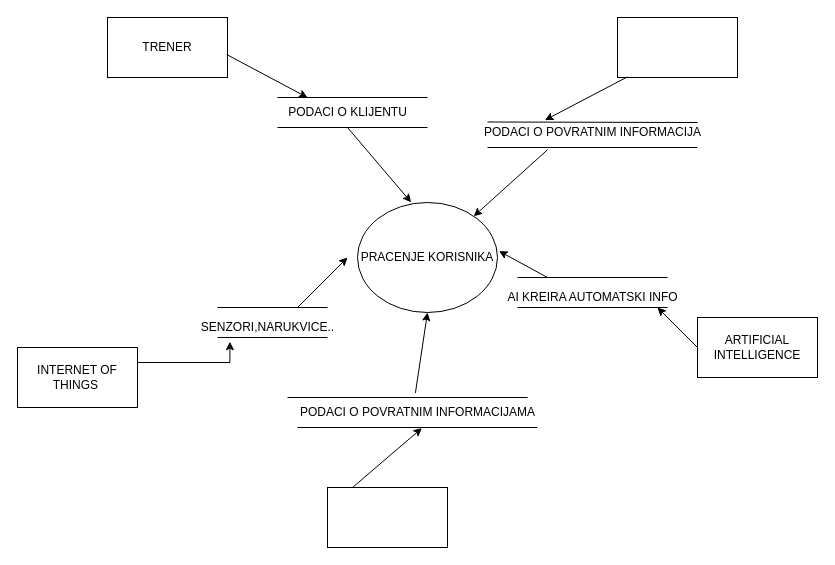
This 835x565 diagram has some shape labels left out. The box of each missing label's shape, as (x1, y1, x2, y2) in pixels:
FEEDBACK: (326, 486, 448, 548)
KORISNICKA PODRSKA: (616, 16, 738, 78)
